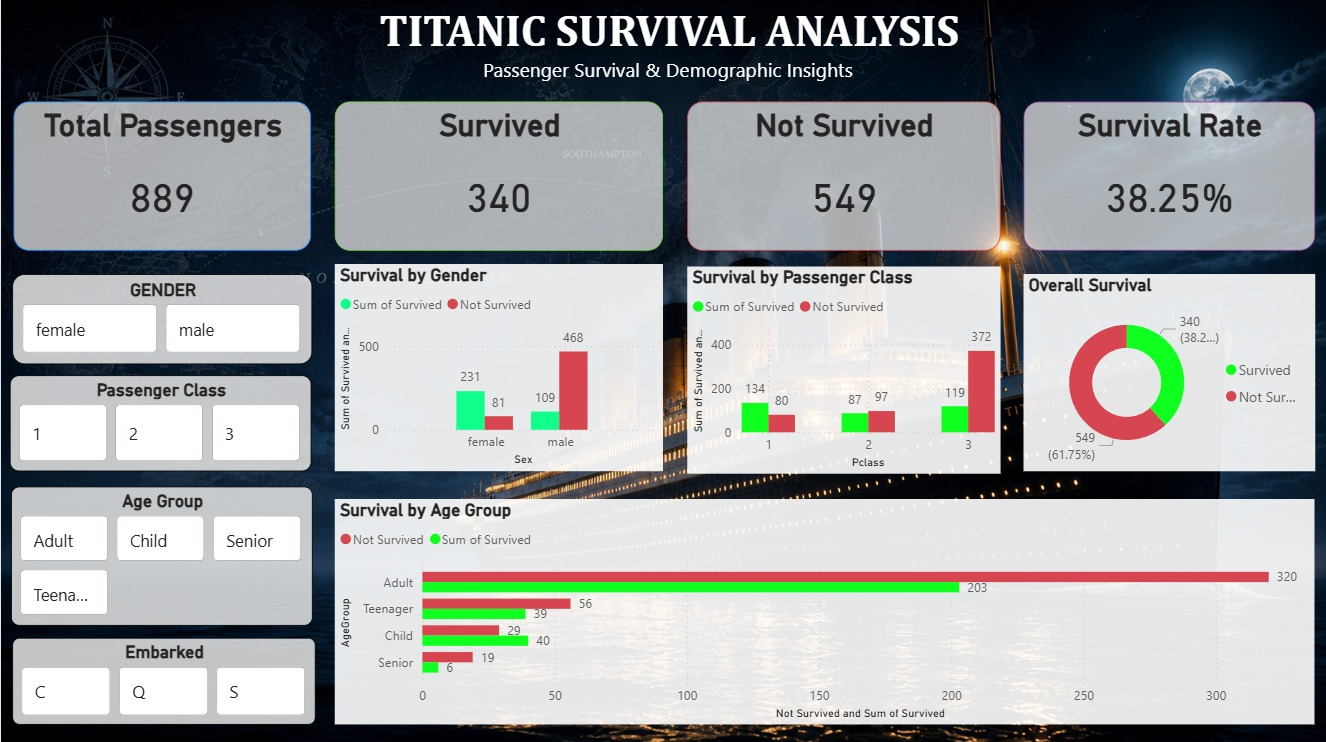

This screenshot's page, from the dashboard's own definition file:
{"tool":"powerbi","page":{"name":"Page 1","canvas":[1280,720],"ordinal":0},"visuals":[{"type":"textbox","box":[9.6,0,1270.7,71.4],"z":1000},{"type":"textbox","box":[8.2,50.3,1270.8,40.8],"z":2000},{"type":"card","title":"Total Passengers","fields":{"Values":["CountNonNull(Sheet1.PassengerId)"]},"box":[12.2,99.3,287.1,144.2],"z":3000},{"type":"card","title":"Survived","fields":{"Values":["Sum(Sheet1.Survived)"]},"box":[322.5,99.3,317,144.2],"z":4000},{"type":"card","title":"   Not Survived","fields":{"Values":["Sheet1.Not Survived"]},"box":[662.6,99.3,302,144.2],"z":5000},{"type":"card","title":"Survival Rate","fields":{"Values":["Sheet1.Survival Rate"]},"box":[986.4,99.3,281.6,144.2],"z":6000},{"type":"advancedSlicerVisual","title":"GENDER","fields":{"Values":["Sheet1.Sex"]},"box":[10.9,265.3,289.8,87.1],"z":7000},{"type":"advancedSlicerVisual","title":"Passenger Class","fields":{"Values":["Sheet1.Pclass"]},"box":[8.2,363.3,291.2,92.5],"z":8000},{"type":"advancedSlicerVisual","title":"Age Group","fields":{"Values":["Sheet1.AgeGroup"]},"box":[9.5,470.7,291.2,134.7],"z":9000},{"type":"advancedSlicerVisual","fields":{"Values":["Sheet1.Embarked"]},"box":[10.9,616.3,292.5,84.4],"z":10000},{"type":"clusteredColumnChart","title":"Survival by Gender","fields":{"Category":["Sheet1.Sex"],"Y":["Sum(Sheet1.Survived)","Sheet1.Not Survived"]},"box":[322.5,255.8,317,200],"z":11000},{"type":"clusteredColumnChart","title":"Survival by Passenger Class","fields":{"Category":["Sheet1.Pclass"],"Y":["Sum(Sheet1.Survived)","Sheet1.Not Survived"]},"box":[662.6,258.5,302,200],"z":12000},{"type":"donutChart","title":"Overall Survival","fields":{"Y":["Sum(Sheet1.Survived)","Sheet1.Not Survived"]},"box":[986.4,265.3,281.6,190.5],"z":13000},{"type":"clusteredBarChart","title":"Survival by Age Group","fields":{"Category":["Sheet1.AgeGroup"],"Y":["Sheet1.Not Survived","Sum(Sheet1.Survived)"]},"box":[322.5,483,945.6,217.7],"z":14000}]}

Visuals, with their boxes in screenshot pixels (x1, y1, x2, y2), scaled from the page's 1280x720 canvas onto the 1326x742 screenshot:
textbox: rect(10, 0, 1325, 74)
textbox: rect(8, 52, 1325, 94)
"Total Passengers" card: rect(13, 102, 310, 251)
"Survived" card: rect(334, 102, 662, 251)
"   Not Survived" card: rect(686, 102, 999, 251)
"Survival Rate" card: rect(1022, 102, 1314, 251)
"GENDER" advancedSlicerVisual: rect(11, 273, 312, 363)
"Passenger Class" advancedSlicerVisual: rect(8, 374, 310, 470)
"Age Group" advancedSlicerVisual: rect(10, 485, 312, 624)
advancedSlicerVisual - Sheet1.Embarked: rect(11, 635, 314, 722)
"Survival by Gender" clusteredColumnChart: rect(334, 264, 662, 470)
"Survival by Passenger Class" clusteredColumnChart: rect(686, 266, 999, 473)
"Overall Survival" donutChart: rect(1022, 273, 1314, 470)
"Survival by Age Group" clusteredBarChart: rect(334, 498, 1314, 722)
